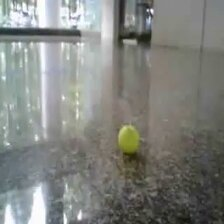tennis: (118, 125, 140, 152)
